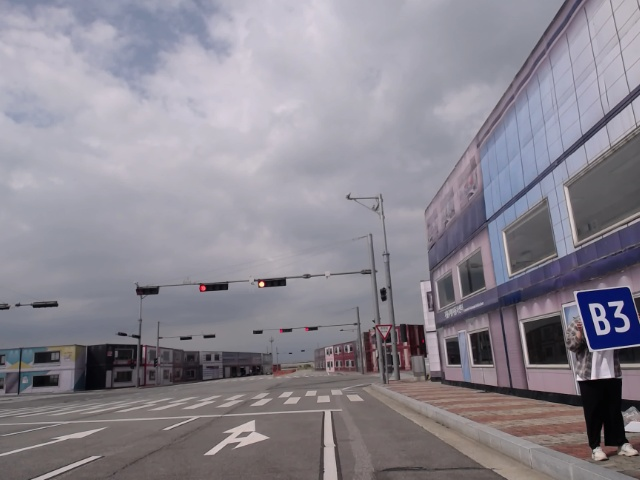delivery_b3: (572, 288, 639, 352)
red_4: (197, 280, 229, 292), (257, 277, 287, 289), (278, 327, 294, 334), (304, 326, 320, 332)
